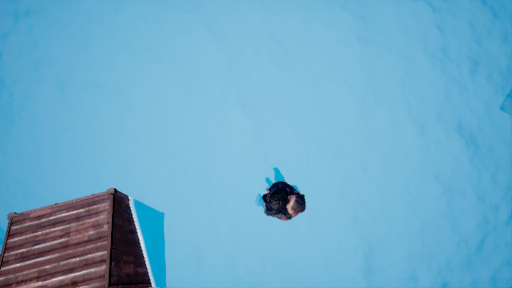person: (256, 164, 312, 220)
